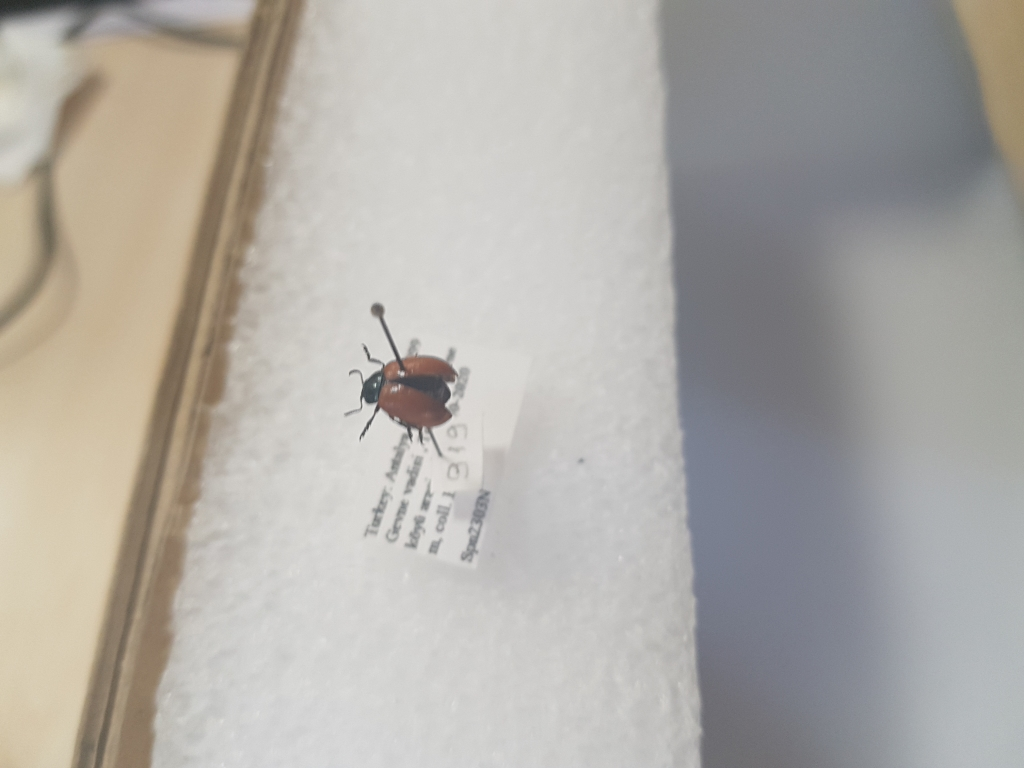Chrysomela_populi: (338, 340, 469, 457)
